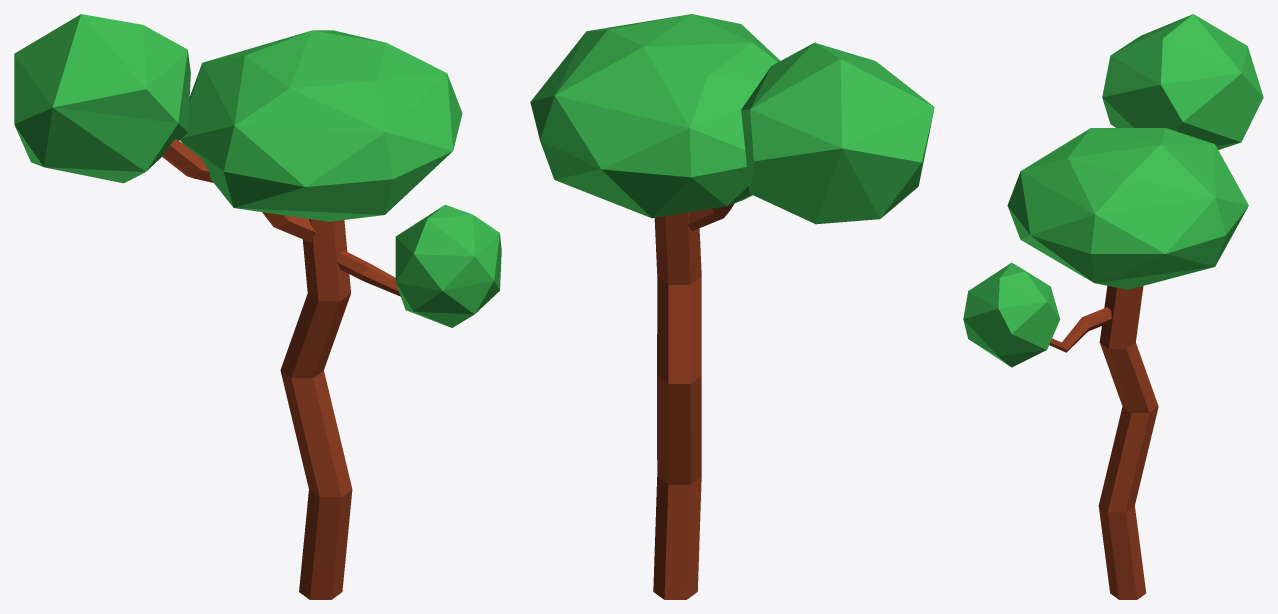
File: splitTreeBranches.fbx
The picture shows the model from 3 angles, left to right: view 1: azimuth 30°, elevation 25°; view 2: azimuth 150°, elevation 25°; view 3: azimuth 270°, elevation 25°; orthographic projection. The views are drawn at different scales.
Parts seen in each view (by area): view 1: Tree.007.Big.Leaves, Tree.007.Medium.Leaves, Tree.007, Tree.007.Small.Leaves, Tree.001, Tree.000; view 2: Tree.007.Big.Leaves, Tree.007.Medium.Leaves, Tree.007, Tree.001; view 3: Tree.007.Big.Leaves, Tree.007.Medium.Leaves, Tree.007, Tree.007.Small.Leaves, Tree.000.
Boxes of the visible parts, left/top/right/bottom form: Tree.007.Big.Leaves: left=180, top=30, right=462, bottom=221; Tree.007.Medium.Leaves: left=14, top=14, right=190, bottom=183; Tree.007: left=280, top=219, right=352, bottom=599; Tree.007.Small.Leaves: left=395, top=204, right=501, bottom=327; Tree.001: left=162, top=139, right=316, bottom=242; Tree.000: left=337, top=250, right=400, bottom=296; Tree.007.Big.Leaves: left=530, top=14, right=780, bottom=218; Tree.007.Medium.Leaves: left=741, top=42, right=934, bottom=224; Tree.007: left=653, top=212, right=701, bottom=599; Tree.001: left=687, top=203, right=734, bottom=230; Tree.007.Big.Leaves: left=1007, top=128, right=1248, bottom=289; Tree.007.Medium.Leaves: left=1102, top=14, right=1263, bottom=149; Tree.007: left=1098, top=286, right=1158, bottom=599; Tree.007.Small.Leaves: left=963, top=262, right=1060, bottom=367; Tree.000: left=1049, top=307, right=1111, bottom=352.
Bounding box in the file's own units: 627 × 911 × 498.
